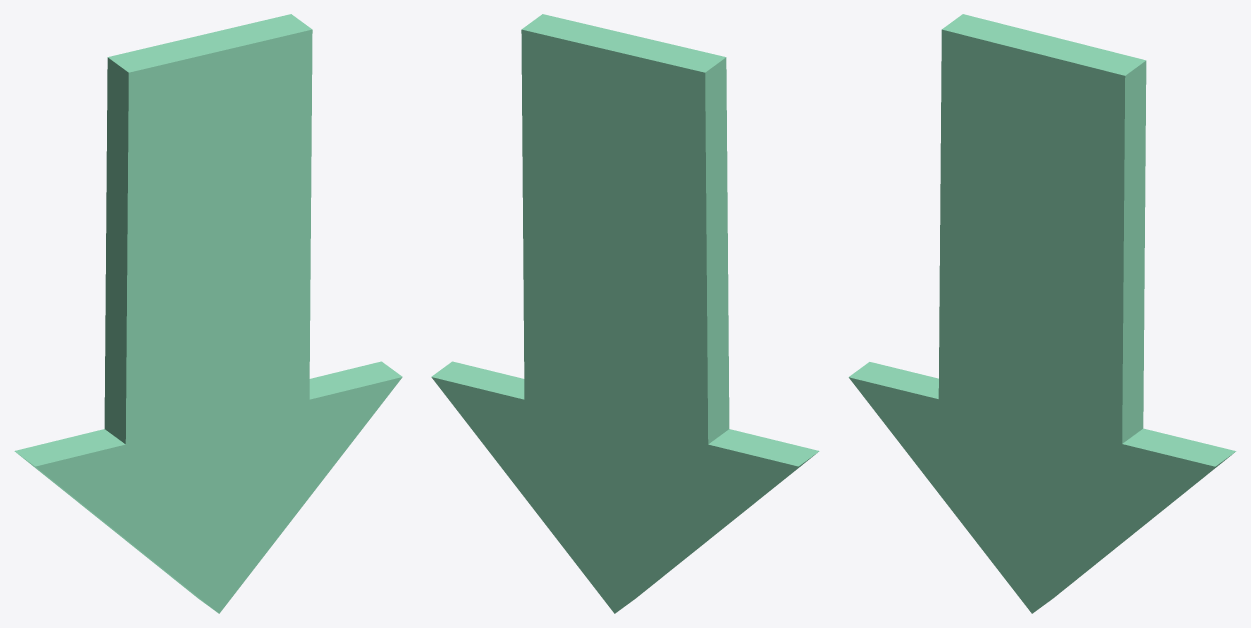
Rendered from arrow.fbx.
3 renders of one model, left to right at view 1: azimuth 30°, elevation 25°; view 2: azimuth 150°, elevation 25°; view 3: azimuth 330°, elevation 25°, orthographic.
Parts seen in each view (by area): view 1: Box, Box1; view 2: Box, Box1; view 3: Box, Box1.
Part boxes in pixels (x1,y1,x2,y2): Box: [104, 14, 312, 457]; Box1: [14, 361, 402, 613]; Box: [521, 14, 729, 457]; Box1: [431, 361, 819, 613]; Box: [938, 14, 1146, 458]; Box1: [848, 362, 1236, 613].
Size of the model in its own units: 1 by 1.47 by 0.1.
